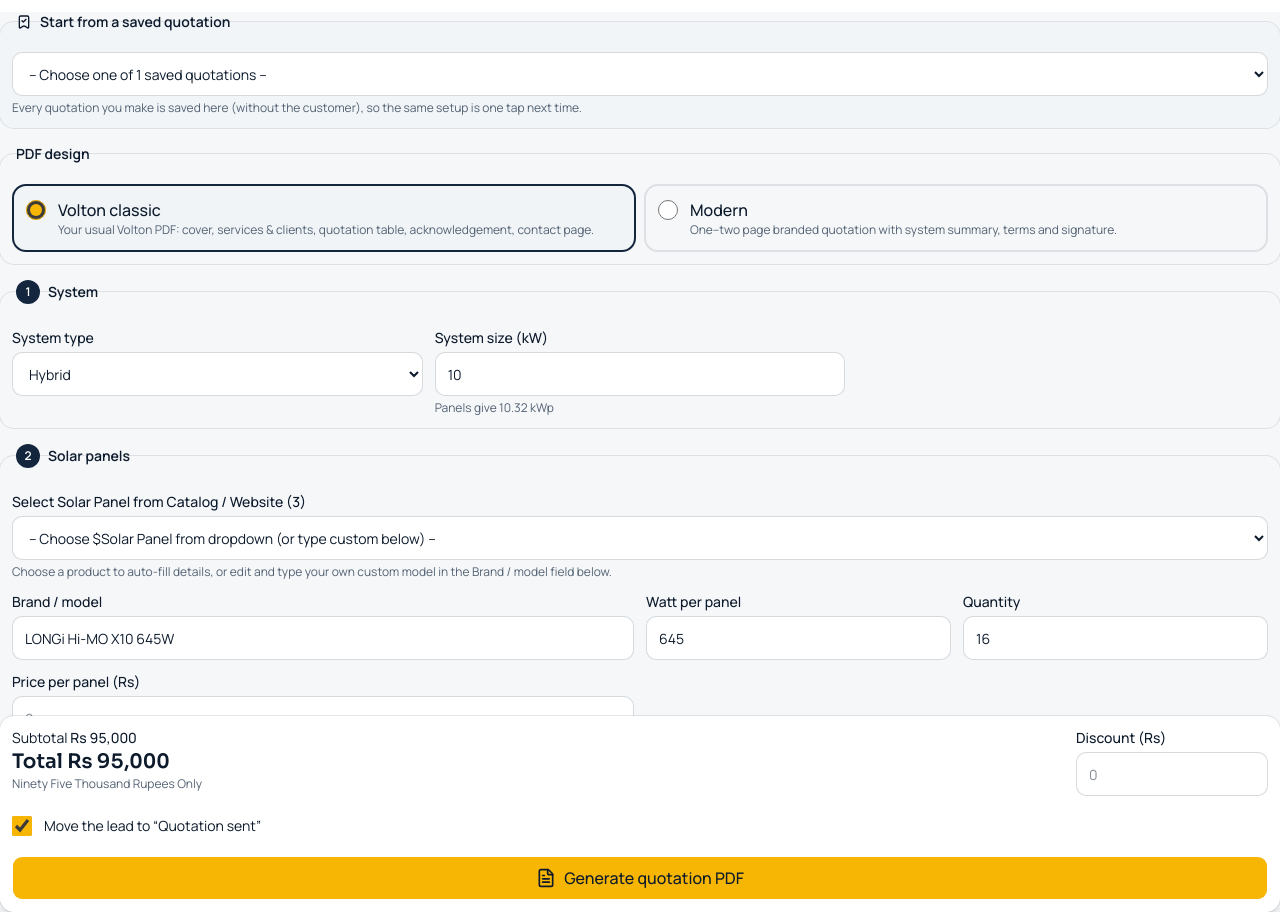
Test: Start from a saved quotation › lists saved quotations and fills the whole form from the one picked
Select "Gulshan 6 kW standard — by Asad · used 3×" in the dropdown named "Saved quotation" at (640,74), box left=12, top=52, right=1268, bottom=96
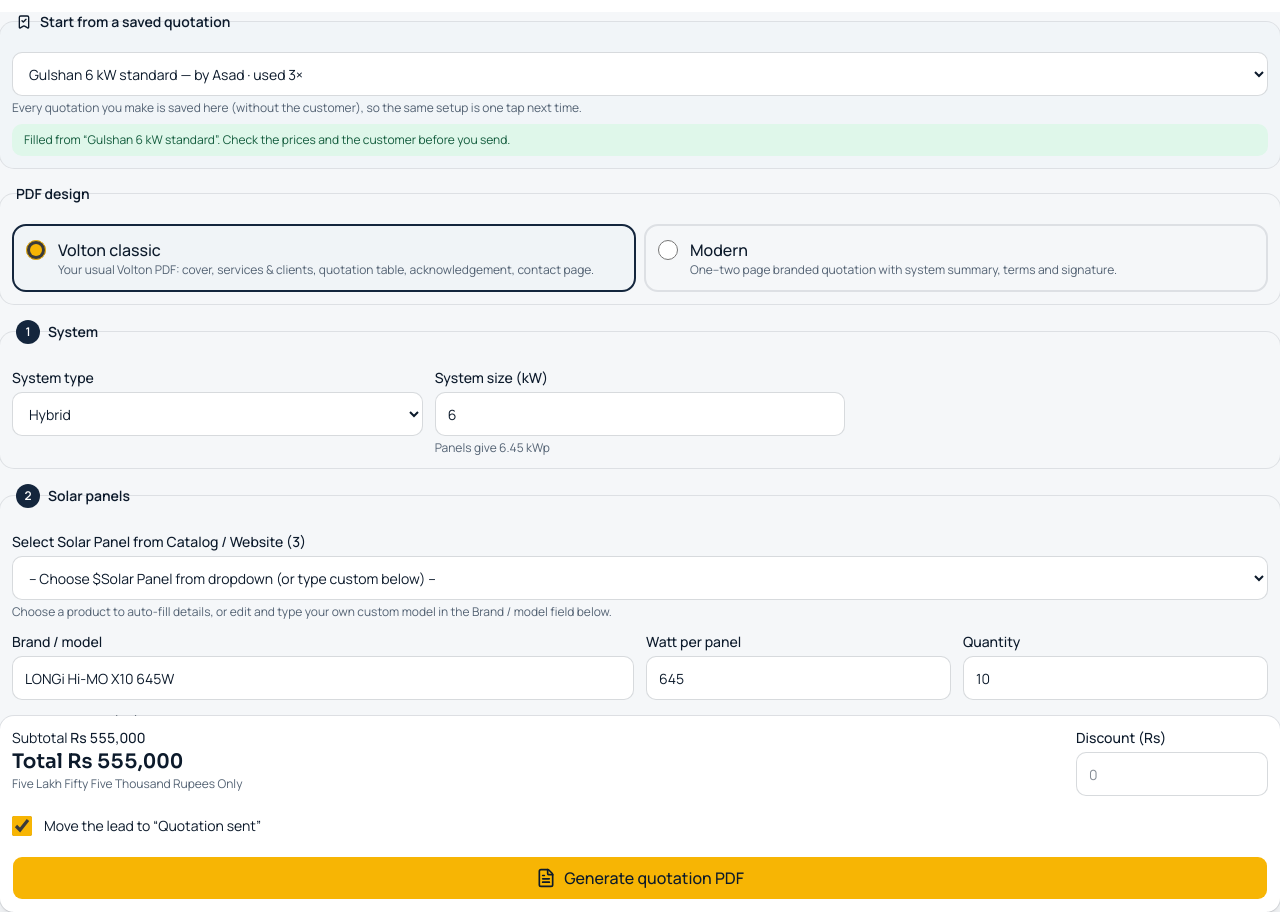
Expected: the text "Total Rs 555,000" is shown, left=12, top=749, right=183, bottom=774
Expected: the text "Filled from “Gulshan 6 kW standard”" is shown, left=24, top=131, right=510, bottom=148
